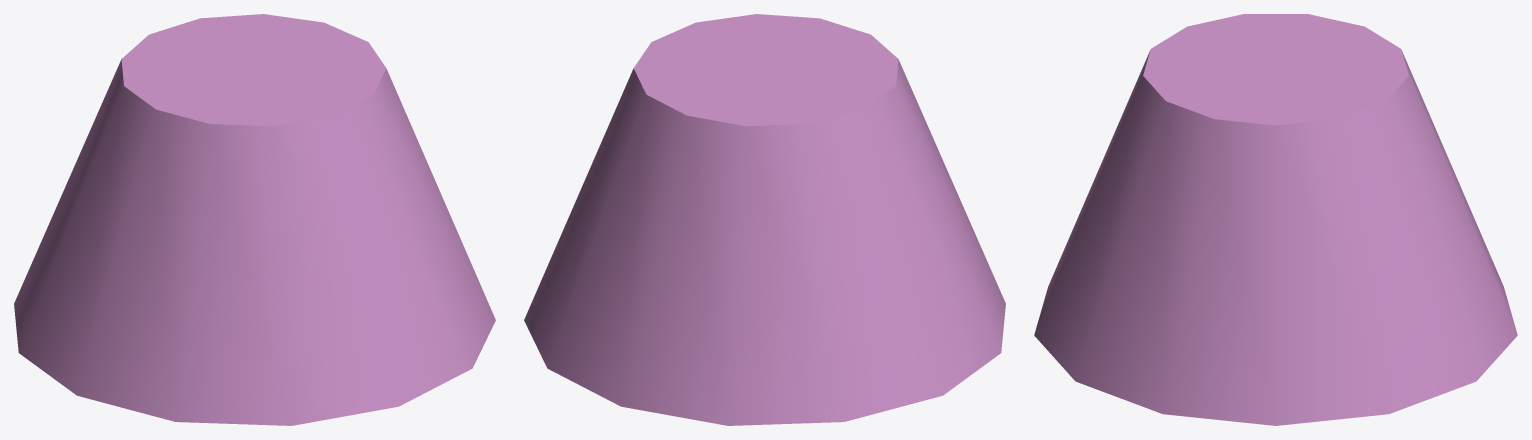
Rendered from liquidillo2.FBX.
3 views of the same model, side by side, from view 1: azimuth 30°, elevation 25°; view 2: azimuth 150°, elevation 25°; view 3: azimuth 270°, elevation 25° (orthographic).
Visible parts, largest first — view 1: liquidillo3_low; view 2: liquidillo3_low; view 3: liquidillo3_low.
Boxes of the visible parts, <box> form: liquidillo3_low: <box>14,14,495,425</box>; liquidillo3_low: <box>524,14,1005,425</box>; liquidillo3_low: <box>1034,14,1517,425</box>.
Bounding box in the file's own units: 5.78 × 3.38 × 5.83.
